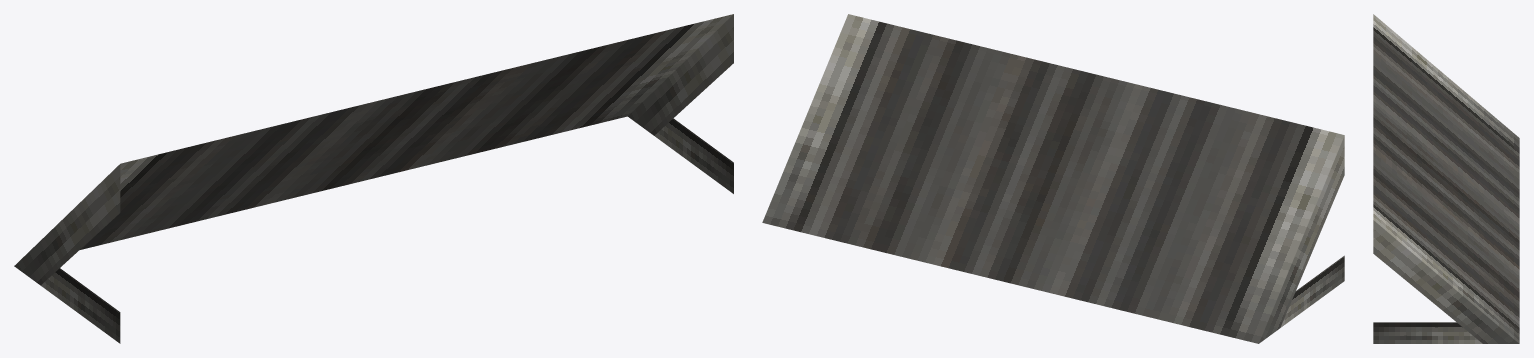
Rendered from detailAwning_wide.fbx.
The picture shows the model from 3 angles, left to right: view 1: azimuth 30°, elevation 25°; view 2: azimuth 150°, elevation 25°; view 3: azimuth 270°, elevation 25°; orthographic projection. The views are drawn at different scales.
Parts seen in each view (by area): view 1: detailAwning_wide; view 2: detailAwning_wide; view 3: detailAwning_wide.
Part boxes in pixels (x1=…): detailAwning_wide: x1=14, y1=14, x2=733, y2=343; detailAwning_wide: x1=762, y1=14, x2=1344, y2=343; detailAwning_wide: x1=1373, y1=14, x2=1519, y2=343.
Size of the model in its own units: 10 by 2.81 by 3.
